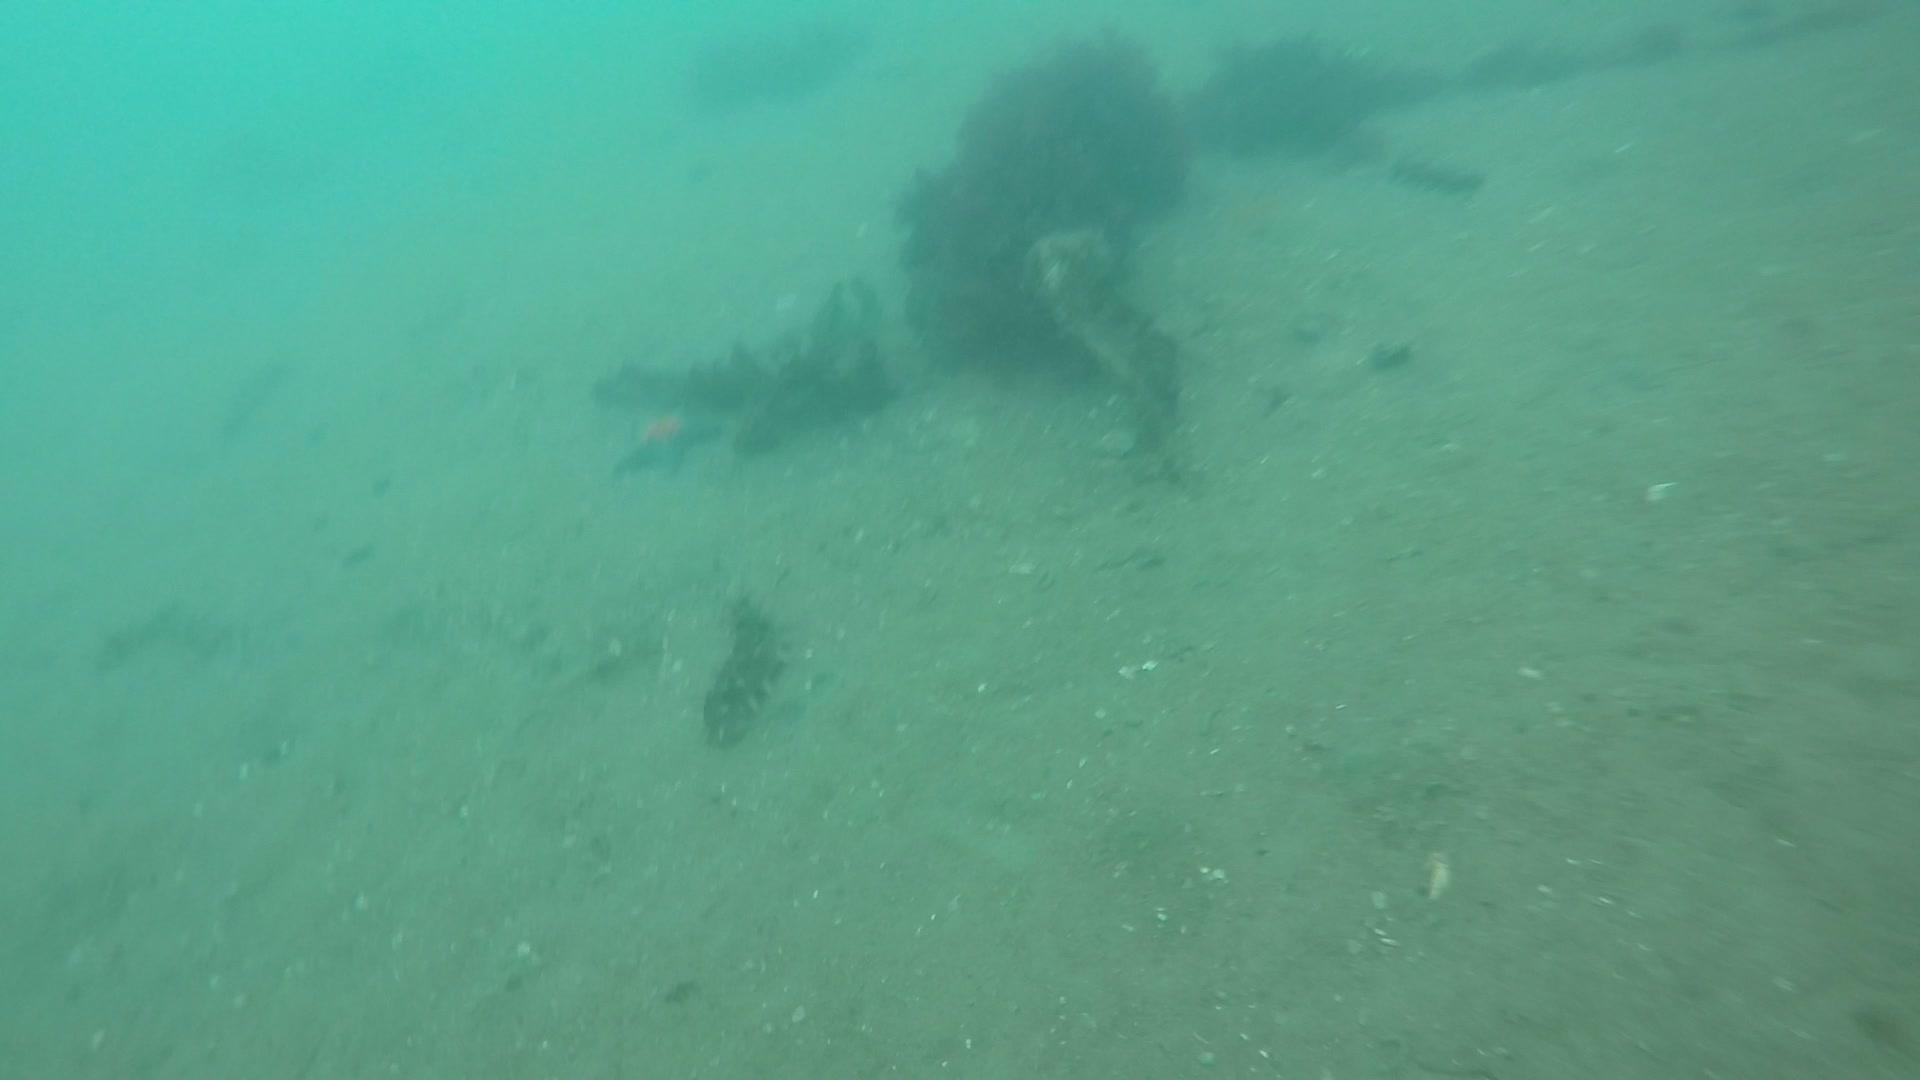holothurian: (694, 585, 795, 752), (1382, 142, 1491, 200)
starfish: (608, 392, 724, 485)
